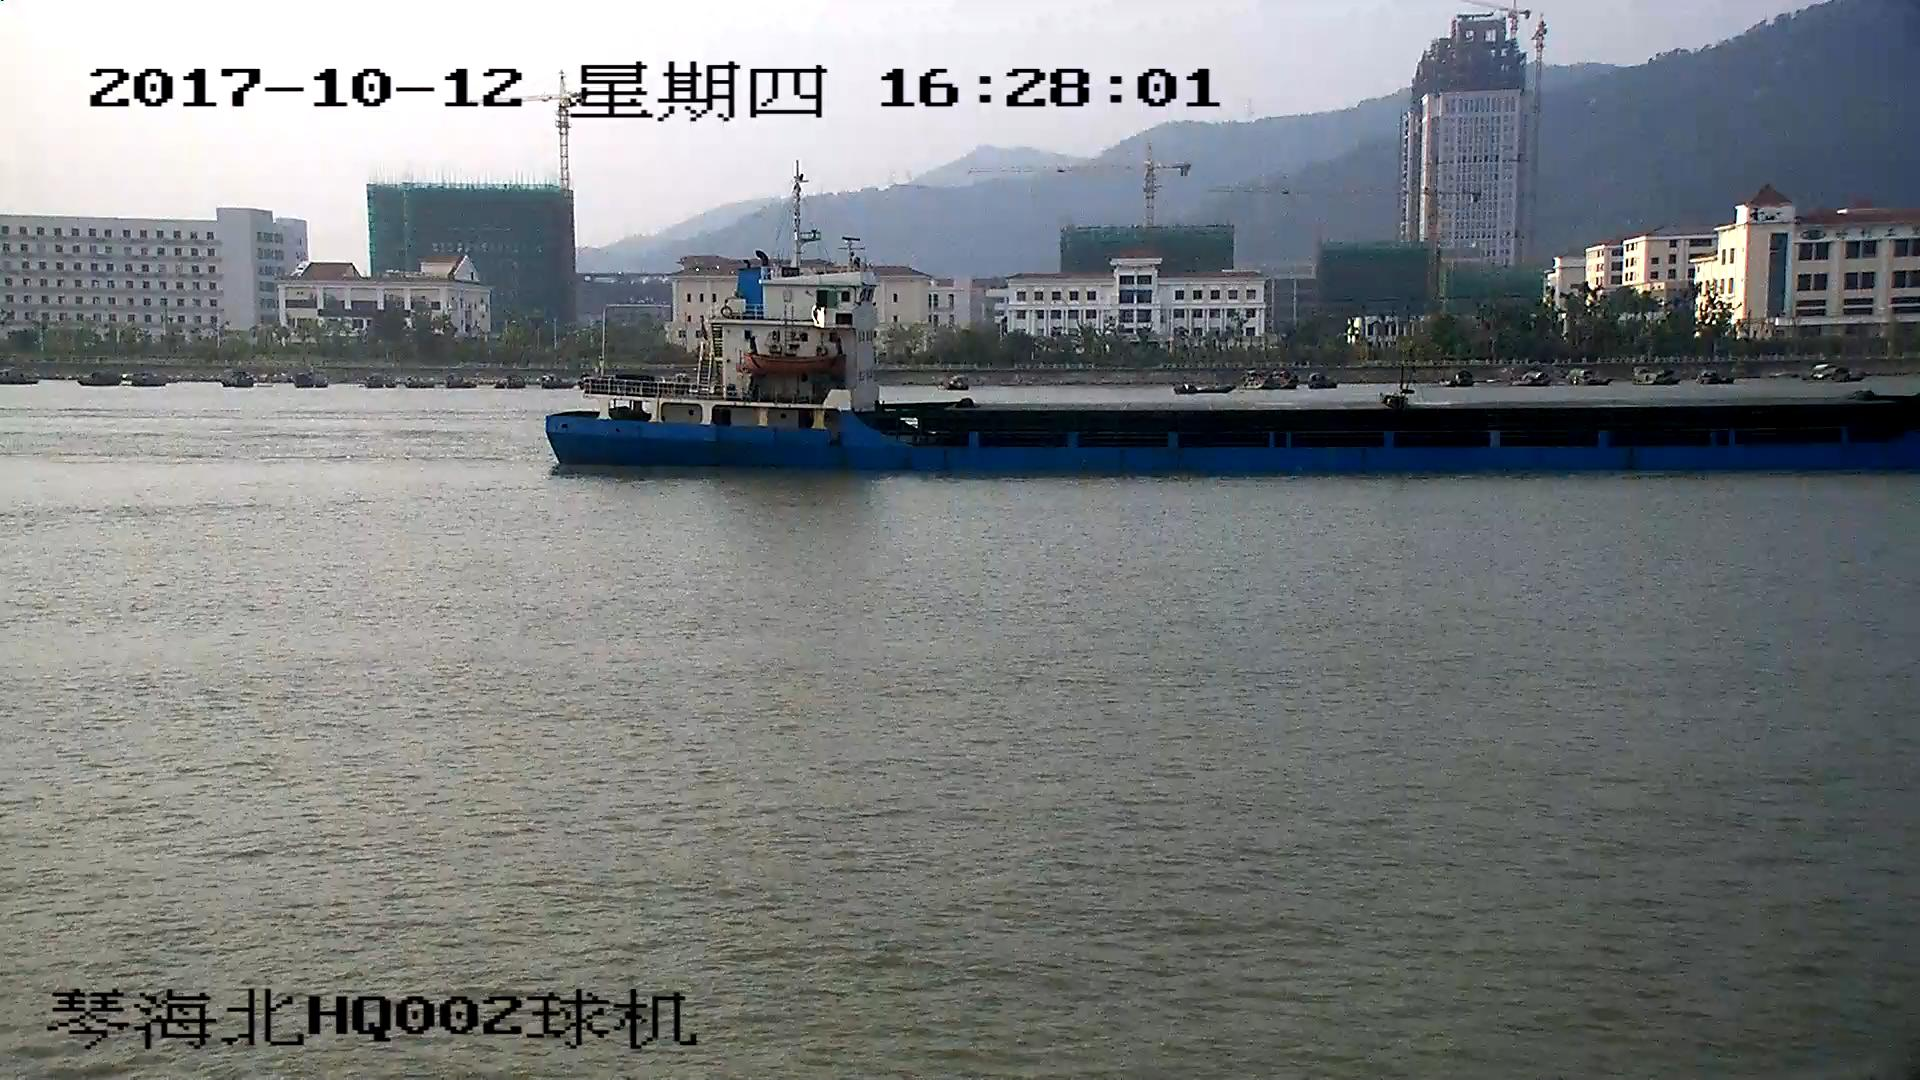general cargo ship: (542, 171, 1920, 482)
